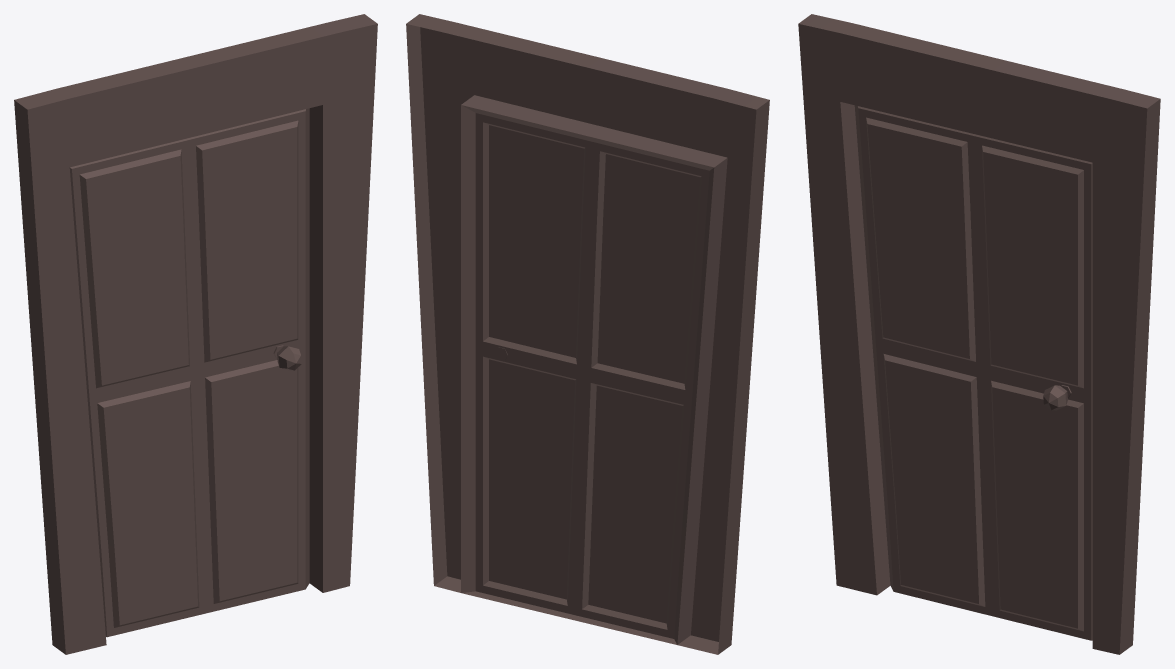
File: Module_Building_Door_Closed.fbx
3 renders of one model, left to right at view 1: azimuth 30°, elevation 25°; view 2: azimuth 150°, elevation 25°; view 3: azimuth 330°, elevation 25°, orthographic.
Parts seen in each view (by area): view 1: Module_Building_Door_Closed; view 2: Module_Building_Door_Closed; view 3: Module_Building_Door_Closed.
Part boxes in pixels (<box>): Module_Building_Door_Closed: <box>14,14,377,654</box>; Module_Building_Door_Closed: <box>406,14,769,654</box>; Module_Building_Door_Closed: <box>798,14,1160,654</box>.
Bounding box in the file's own units: 97.62 × 148 × 10.63.
